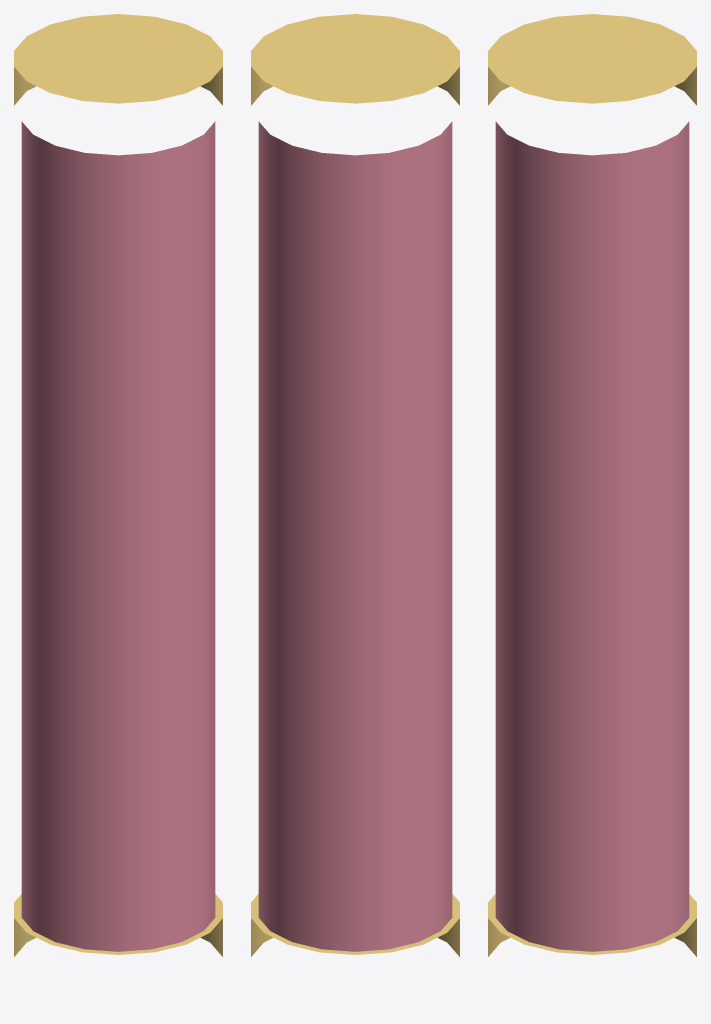
File: festival-banner.glb
The picture shows the model from 3 angles, left to right: view 1: azimuth 30°, elevation 25°; view 2: azimuth 150°, elevation 25°; view 3: azimuth 270°, elevation 25°; orthographic projection.
Visible parts, largest first — view 1: festival-banner; view 2: festival-banner; view 3: festival-banner.
Boxes of the visible parts, left/top/right/bottom form: festival-banner: left=14, top=14, right=222, bottom=956; festival-banner: left=251, top=14, right=459, bottom=956; festival-banner: left=488, top=14, right=696, bottom=956.
Size of the model in its own units: 0.14 by 0.66 by 0.1379.
